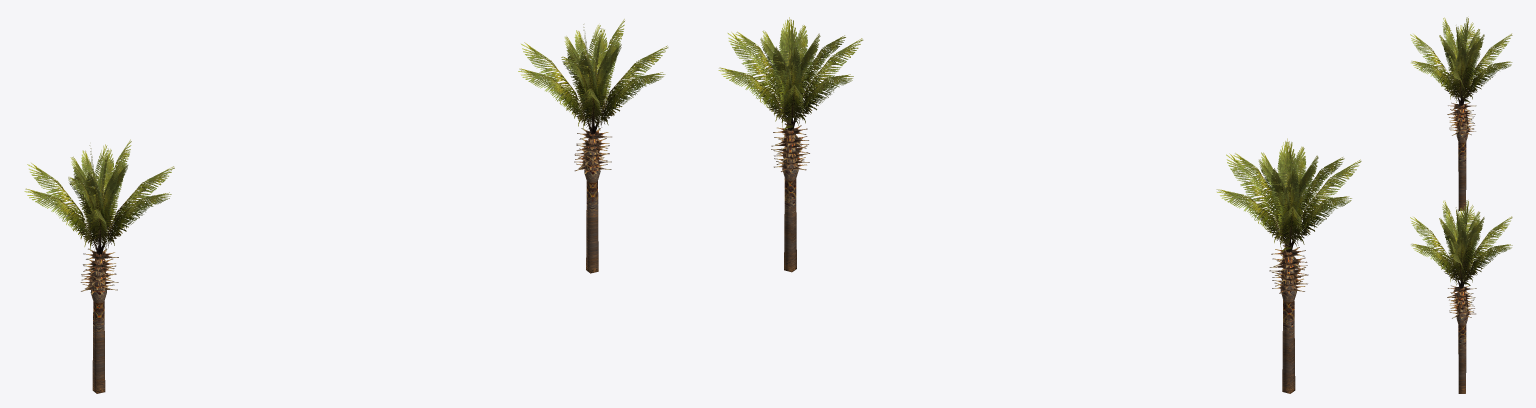
The model's file is assemblea_f2.dae.
3 views of the same model, side by side, from view 1: azimuth 30°, elevation 25°; view 2: azimuth 150°, elevation 25°; view 3: azimuth 270°, elevation 25° (orthographic). The views are drawn at different scales.
Visible parts, largest first — view 1: assemblea_f2; view 2: assemblea_f2; view 3: assemblea_f2.
Boxes of the visible parts, x1,y1,x2,y2 form: assemblea_f2: (24,19,668,393); assemblea_f2: (718,17,1361,393); assemblea_f2: (1410,17,1512,393).
Bounding box in the file's own units: 25.28 × 5.38 × 9.53.
Materials: 1 (1 with a texture image).
